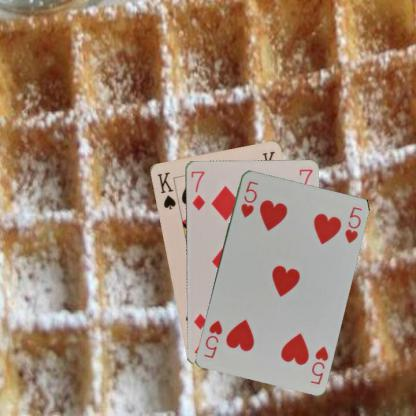5h: (308, 344, 330, 386), (238, 178, 259, 218)
7d: (188, 168, 206, 211)
Ks: (154, 169, 177, 211)
